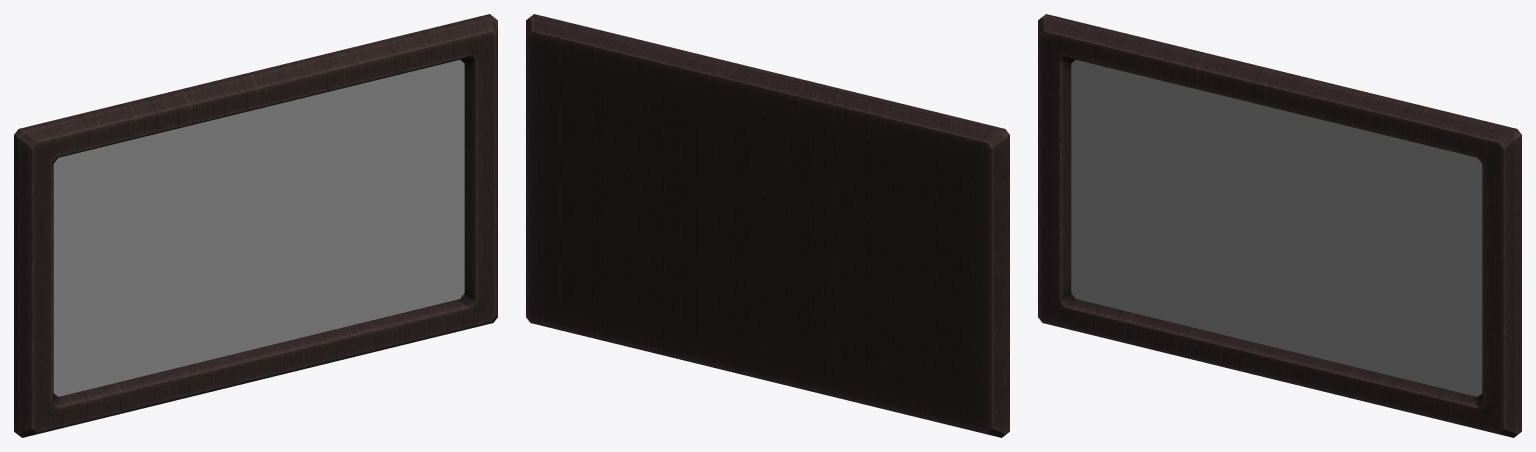
File: Static_Frame_Landscape_Dark.FBX
3 renders of one model, left to right at view 1: azimuth 30°, elevation 25°; view 2: azimuth 150°, elevation 25°; view 3: azimuth 330°, elevation 25°, orthographic.
Parts seen in each view (by area): view 1: Object009, Object003; view 2: Object003; view 3: Object009, Object003.
Part boxes in pixels (box(x1,y1,x2,y2)): Object009: box(53, 60, 464, 396); Object003: box(14, 14, 497, 437); Object003: box(526, 14, 1009, 437); Object009: box(1071, 60, 1482, 396); Object003: box(1038, 14, 1521, 437).
Bounding box in the file's own units: 101 × 61.55 × 6.13.
2 materials, 1 textured.
